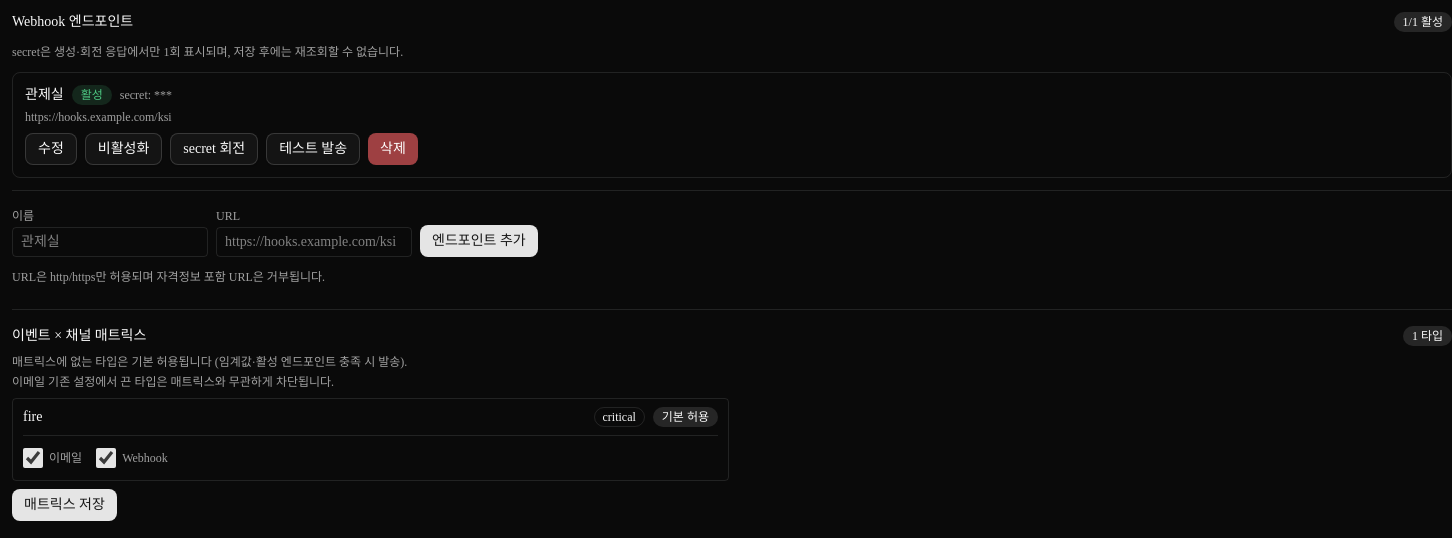
Test: WebhookSettings › M4: 삭제 확인에서 취소하면 삭제되지 않는다
Click the button "삭제": (393, 149) [368, 133, 418, 165]
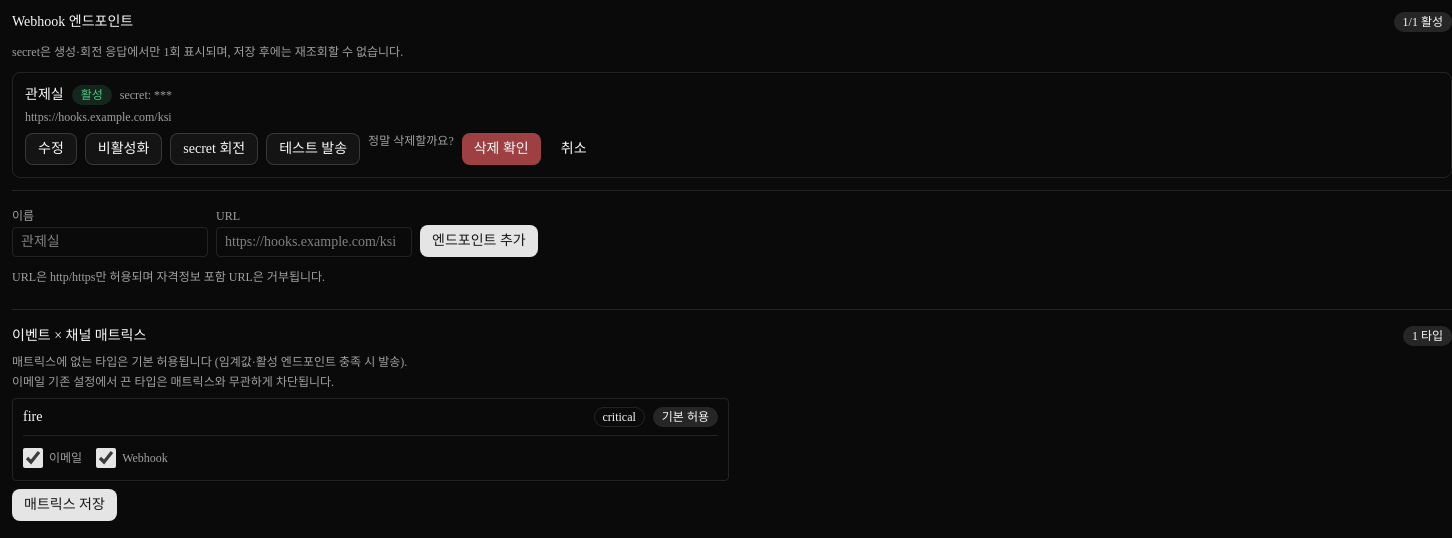
Click the button "취소": (574, 149) [549, 133, 599, 165]
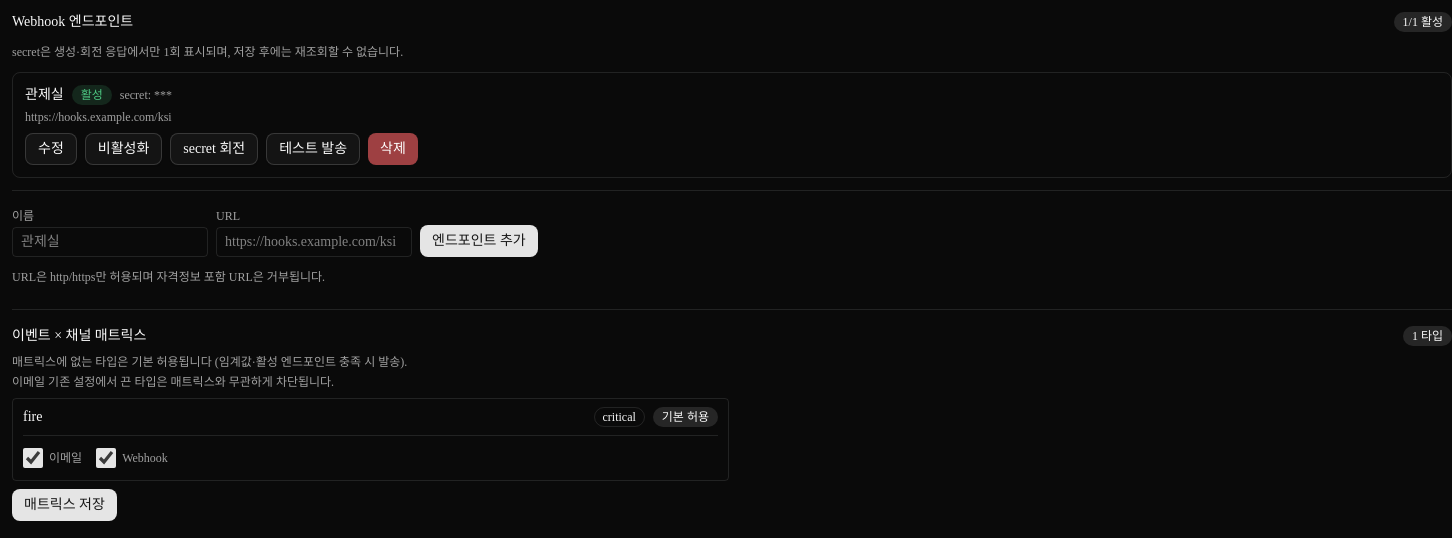
Check: the text "관제실" is shown, box [25, 85, 64, 105]
Check: the button "삭제 확인" is gone
